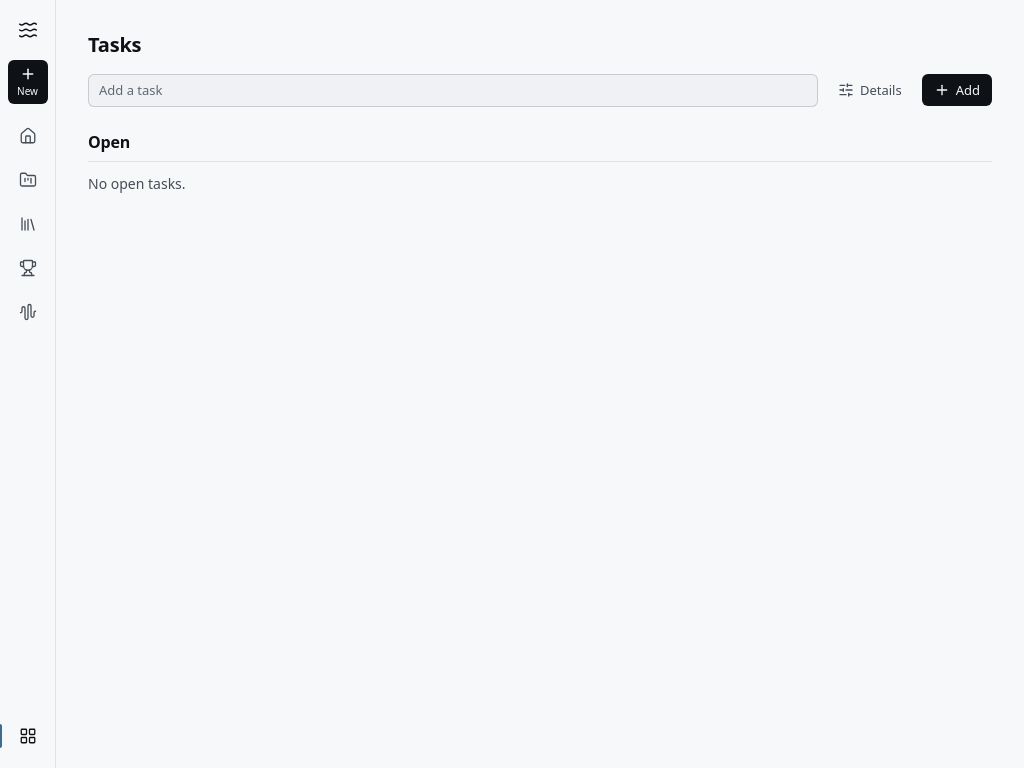
Tasks page › creates a task from the title alone with Enter
Expected: the heading "Tasks" is shown, [88,31,141,58]
Expected: the heading "Open" is shown, [88,131,992,162]
Step 1. Type "Renew passport" into the field named "New task" → [453, 90], box [88,74,818,107]
Then press Enter
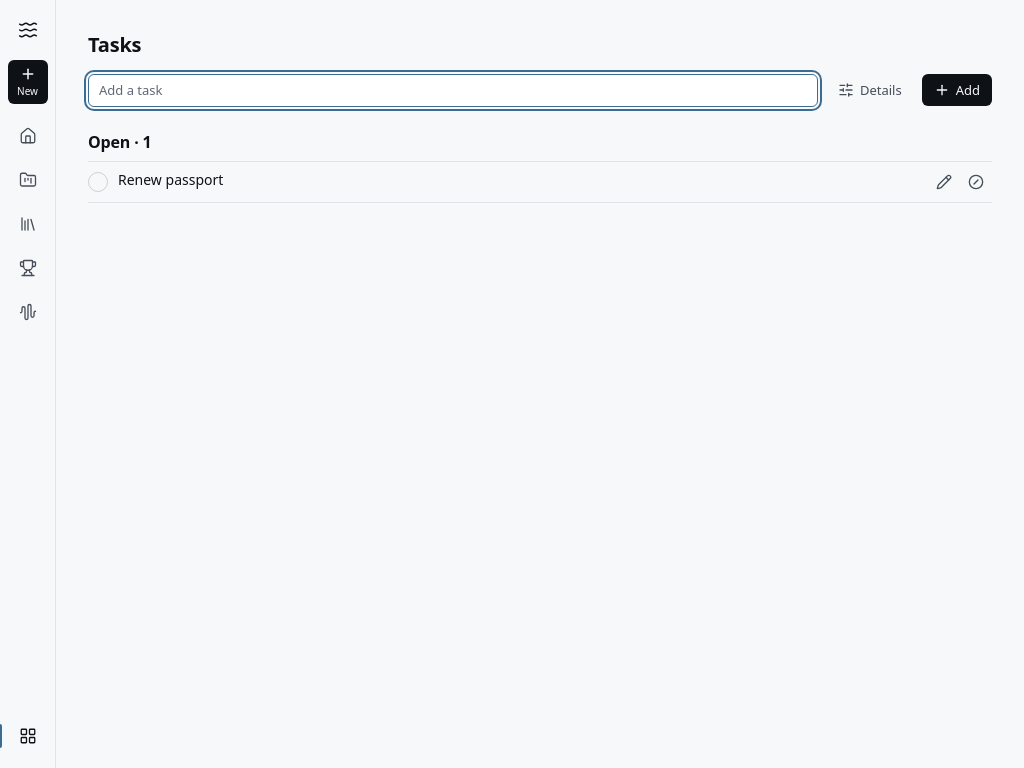
Result: the text "Renew passport" is shown at [118,170,223,189]
